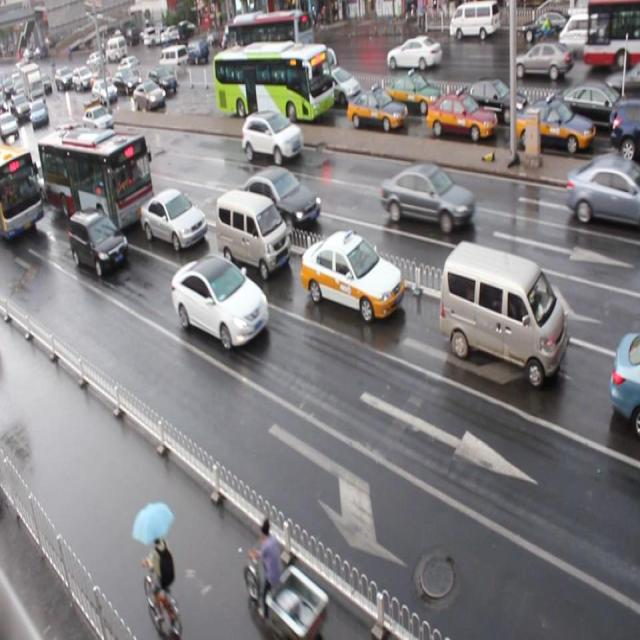car: (300, 229, 403, 321), (171, 256, 270, 350), (380, 160, 474, 237), (565, 154, 640, 232), (240, 165, 321, 233), (546, 81, 640, 137), (514, 101, 594, 160), (69, 204, 129, 278), (140, 188, 208, 252), (426, 91, 498, 145), (242, 110, 303, 168), (608, 330, 640, 433), (458, 79, 525, 124), (345, 89, 407, 134), (383, 74, 438, 116), (312, 64, 360, 105), (610, 99, 640, 161), (22, 160, 61, 204), (134, 81, 165, 111), (84, 107, 115, 136), (148, 68, 178, 96), (112, 70, 140, 94)
truck: (438, 240, 568, 389), (215, 186, 290, 282), (56, 126, 92, 164)
van: (38, 127, 154, 235), (213, 44, 334, 122), (1, 142, 45, 242)
